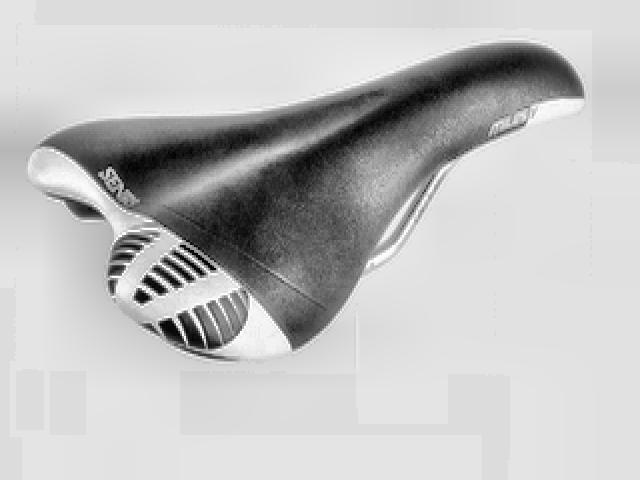saddle: (31, 38, 587, 384)
